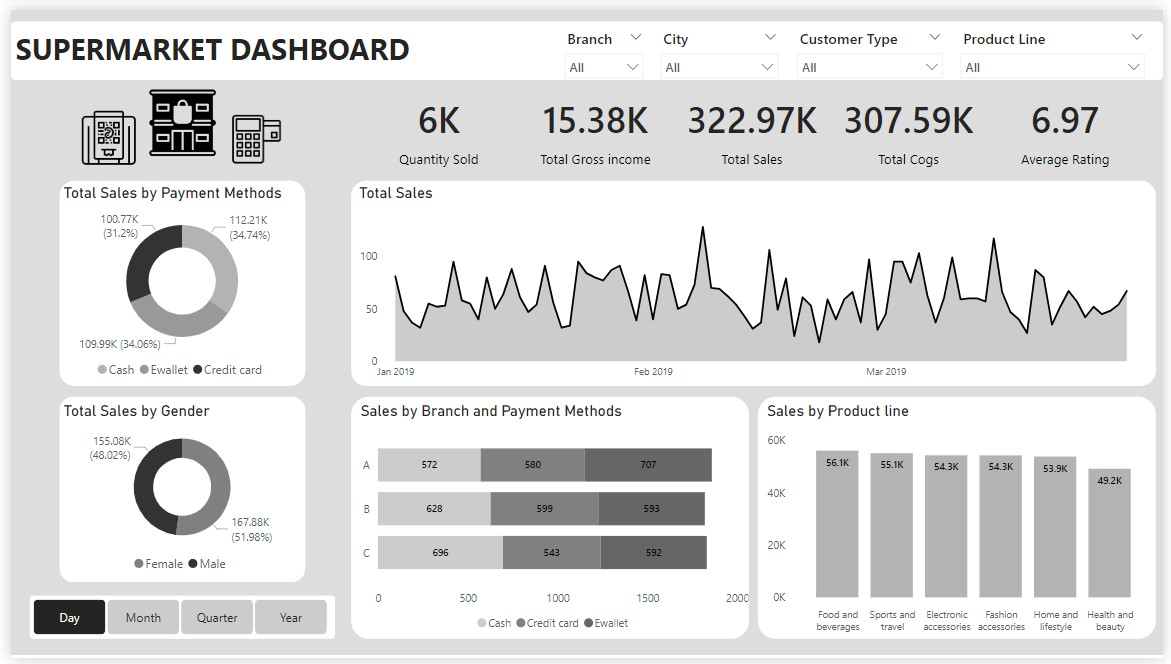

What the dashboard file says about the page in this screenshot:
{"tool":"powerbi","page":{"name":"Page 1","canvas":[1280,720],"ordinal":0},"visuals":[{"type":"cardVisual","fields":{"Data":["Sum(supermarket_sales.Quantity)","Sum(supermarket_sales.gross income)","Sum(supermarket_sales.Total)","Sum(supermarket_sales.cogs)","Avg(supermarket_sales.Rating)"]},"box":[382.8,87.5,882.3,101.3],"z":0},{"type":"donutChart","title":"Total Sales by Gender","fields":{"Category":["supermarket_sales.Gender"],"Y":["Sum(supermarket_sales.Total)"]},"box":[53.2,434.3,272.9,199.1],"z":1000},{"type":"donutChart","title":"Total Sales by Payment Methods","fields":{"Y":["Sum(supermarket_sales.Total)"],"Category":["supermarket_sales.Payment"]},"box":[53.2,194,272.9,224.9],"z":2000},{"type":"lineChart","title":"Total Sales","fields":{"Category":["supermarket_sales.Date.Variation.Date Hierarchy.Year","supermarket_sales.Date.Variation.Date Hierarchy.Quarter","supermarket_sales.Date.Variation.Date Hierarchy.Month","supermarket_sales.Date.Variation.Date Hierarchy.Day"],"Y":["Sum(supermarket_sales.Quantity)"]},"box":[382.2,193.6,885.8,224.7],"z":3000},{"type":"clusteredColumnChart","title":"Sales by Product line","fields":{"Category":["supermarket_sales.Product line"],"Y":["Sum(supermarket_sales.Total)"]},"box":[834.3,434.3,439.5,264.4],"z":4000},{"type":"bookmarkNavigator","box":[25.7,655.7,329.6,39.5],"z":5000},{"type":"barChart","title":"Sales by Branch and Payment Methods","fields":{"Category":["supermarket_sales.Branch"],"Series":["supermarket_sales.Payment"],"Y":["Sum(supermarket_sales.Quantity)"]},"box":[382.8,434.3,441.2,264.4],"z":6000},{"type":"textbox","box":[0,15.4,566.5,61.8],"z":7000},{"type":"slicer","fields":{"Values":["supermarket_sales.Branch"]},"box":[604.2,15.4,108.1,61.8],"z":8000},{"type":"slicer","fields":{"Values":["supermarket_sales.City"]},"box":[712.4,15.4,151.1,61.8],"z":9000},{"type":"slicer","fields":{"Values":["supermarket_sales.Customer type"]},"box":[863.5,15.4,182,61.8],"z":10000},{"type":"slicer","fields":{"Values":["supermarket_sales.Product line"]},"box":[1045.4,15.4,224.9,61.8],"z":11000},{"type":"image","box":[144.2,79,91,94.4],"z":12000},{"type":"image","box":[73.8,106.4,70.4,70.4],"z":13000},{"type":"image","box":[235.2,108.1,75.5,70.4],"z":14000}]}

Visuals, with their boxes in screenshot pixels (x1, y1, x2, y2), scaled from the page's 1280x720 canvas onto the 1171x664 screenshot:
cardVisual - Sum(supermarket_sales.Quantity) x Sum(supermarket_sales.gross income): (left=350, top=81, right=1157, bottom=174)
"Total Sales by Gender" donutChart: (left=49, top=401, right=298, bottom=584)
"Total Sales by Payment Methods" donutChart: (left=49, top=179, right=298, bottom=386)
"Total Sales" lineChart: (left=350, top=179, right=1160, bottom=386)
"Sales by Product line" clusteredColumnChart: (left=763, top=401, right=1165, bottom=644)
bookmarkNavigator: (left=24, top=605, right=325, bottom=641)
"Sales by Branch and Payment Methods" barChart: (left=350, top=401, right=754, bottom=644)
textbox: (left=0, top=14, right=518, bottom=71)
slicer - supermarket_sales.Branch: (left=553, top=14, right=652, bottom=71)
slicer - supermarket_sales.City: (left=652, top=14, right=790, bottom=71)
slicer - supermarket_sales.Customer type: (left=790, top=14, right=956, bottom=71)
slicer - supermarket_sales.Product line: (left=956, top=14, right=1162, bottom=71)
image: (left=132, top=73, right=215, bottom=160)
image: (left=68, top=98, right=132, bottom=163)
image: (left=215, top=100, right=284, bottom=165)
